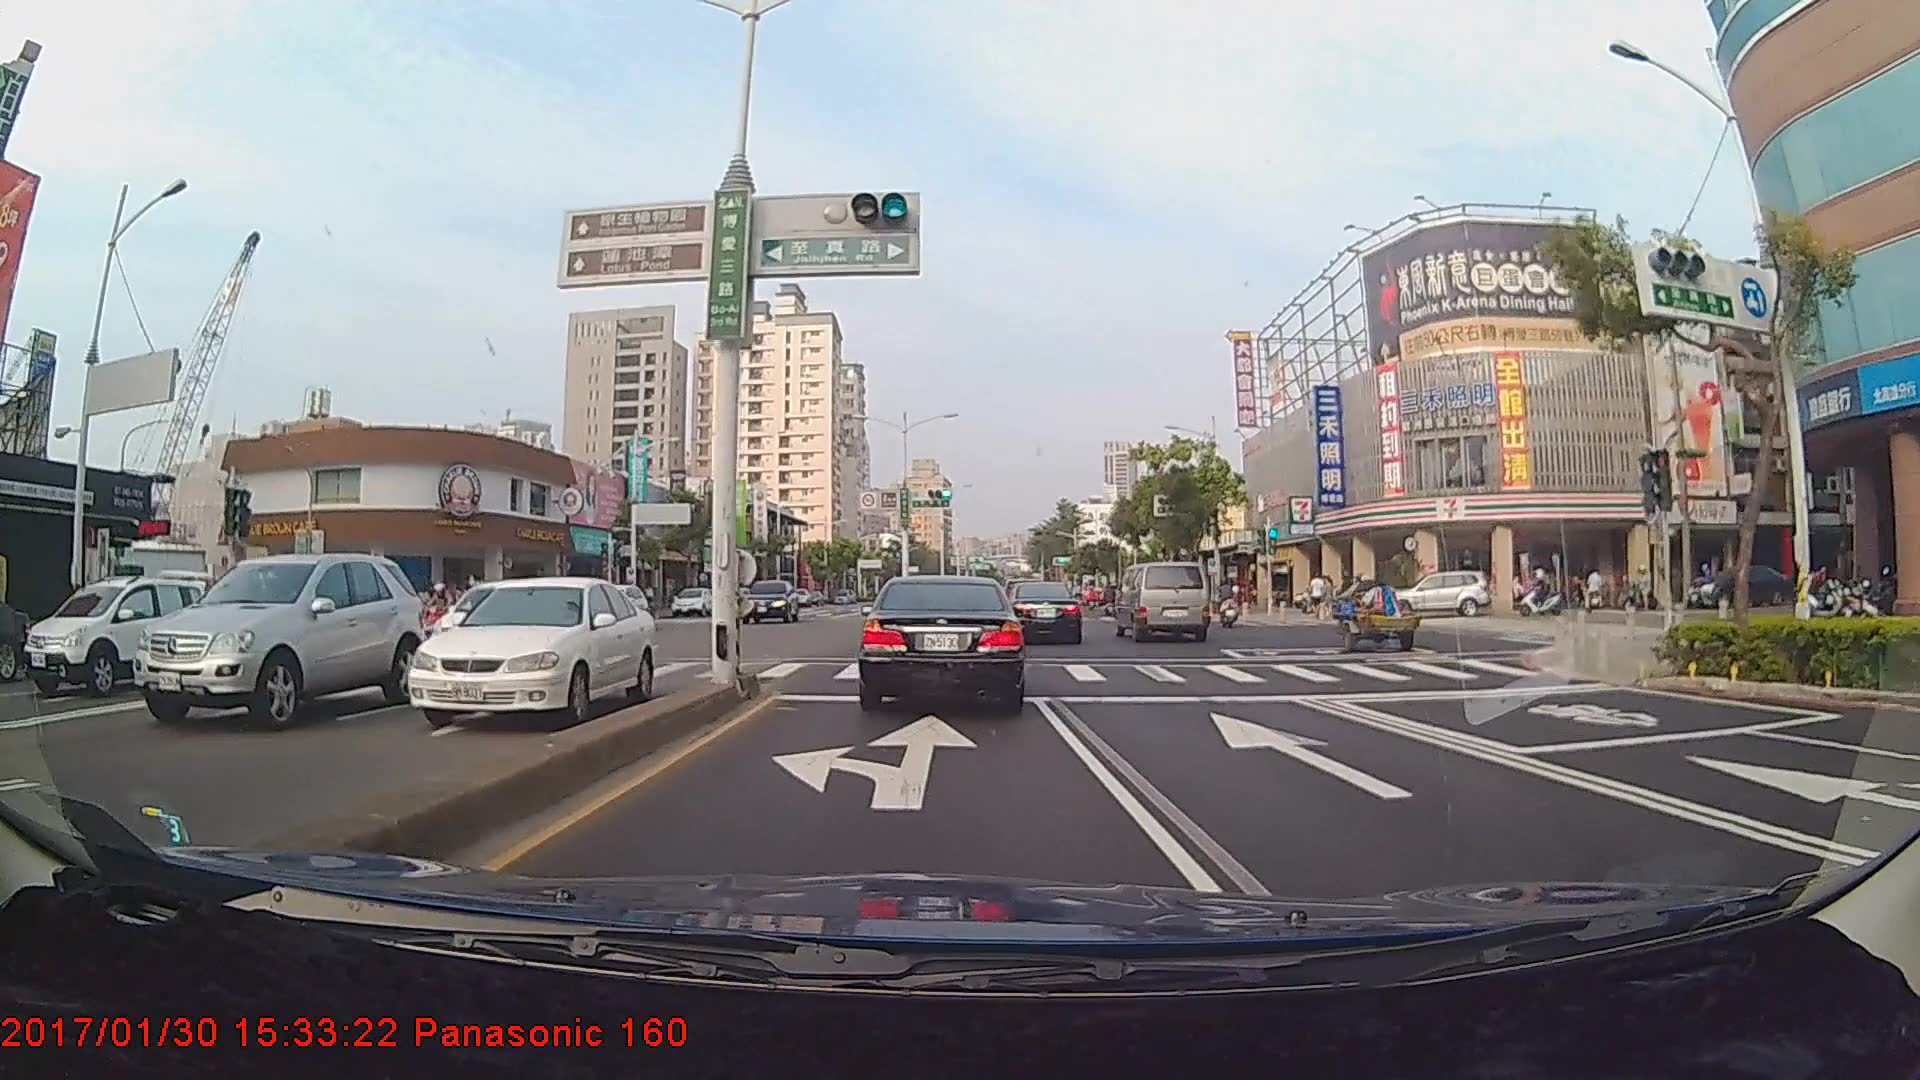pedestrian: (1307, 572, 1327, 621)
rider: (417, 580, 463, 642), (1210, 580, 1245, 633)
vehicle: (129, 549, 425, 727), (395, 574, 662, 728), (20, 568, 215, 703), (860, 571, 1026, 712), (1116, 561, 1209, 643), (1008, 581, 1084, 645), (1403, 570, 1491, 618), (740, 579, 799, 626), (0, 588, 28, 677), (669, 586, 712, 617)
